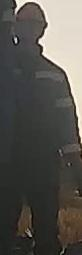gloves: (64, 152, 82, 196)
helmet: (15, 0, 49, 36)
vest: (13, 55, 73, 200)
